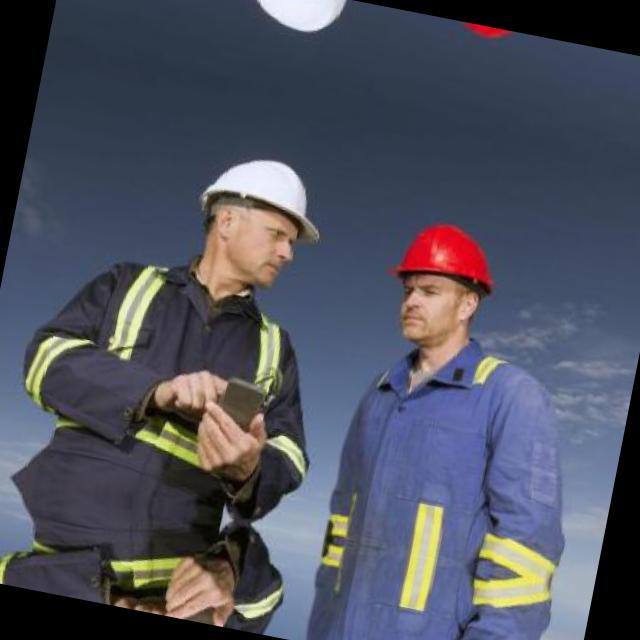helmet: (170, 129, 340, 307), (366, 201, 517, 367), (217, 0, 370, 61)
